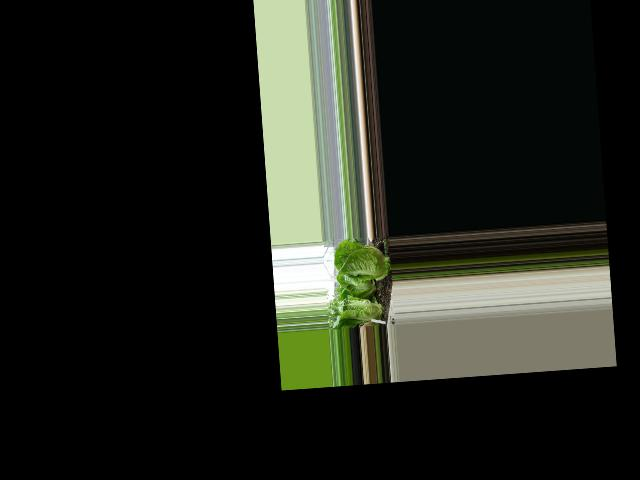lettuce: (331, 292, 390, 325)
